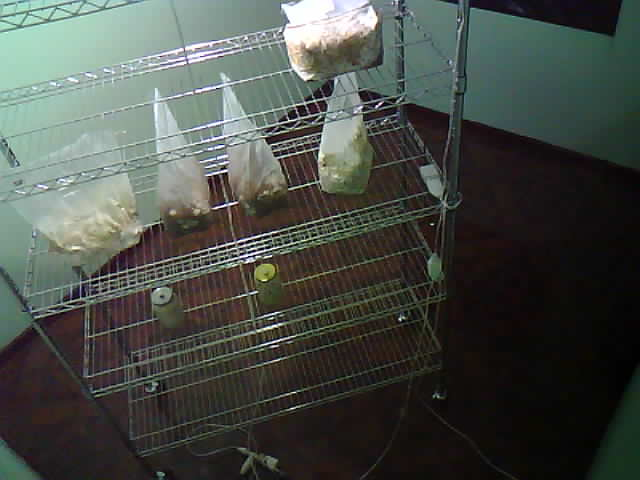bloco: (20, 115, 135, 285), (209, 71, 302, 216), (140, 85, 225, 233), (274, 0, 405, 75), (304, 73, 369, 211)
